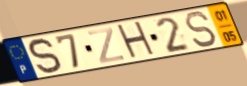2: (156, 16, 193, 55)
7: (54, 32, 82, 70)
H: (115, 19, 159, 62)
S: (182, 10, 220, 49), (27, 36, 63, 76)
Z: (86, 26, 127, 65)
